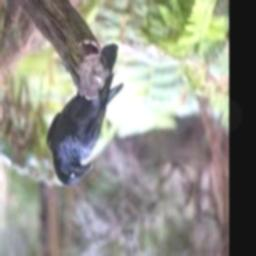Crow: (46, 73, 124, 186)
